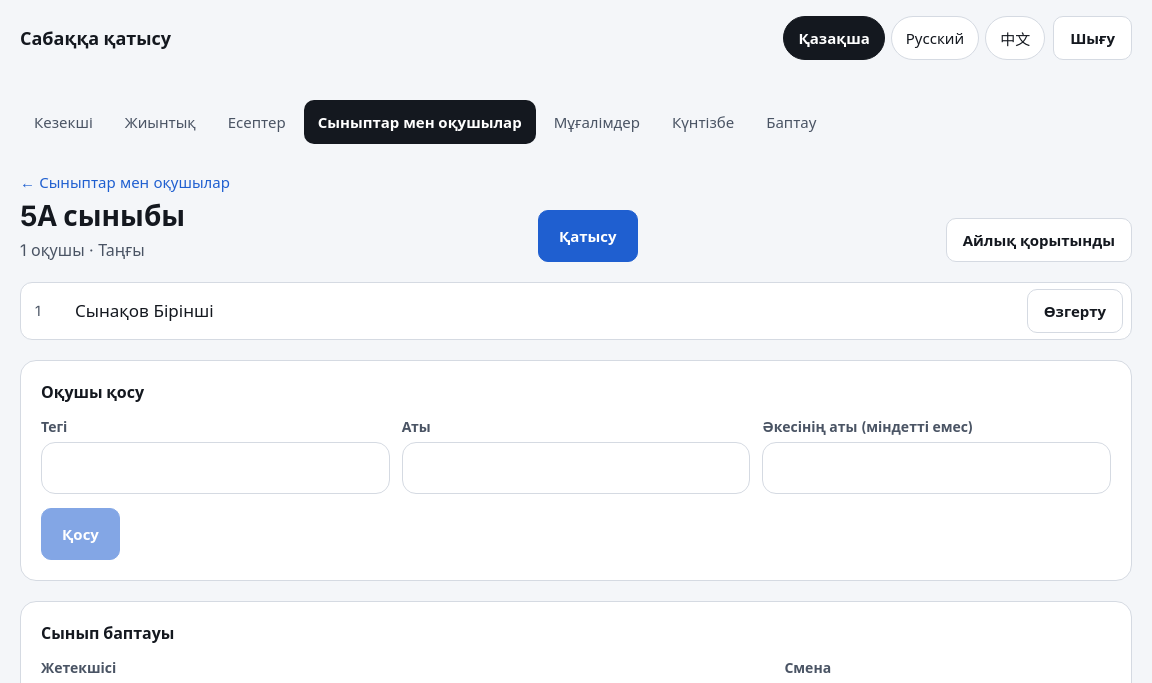
Test case: сынып беті › сервер қатесі таңдалған тілде көрсетіледі, толтырылған өрістер сақталады
Type "Сынақов" into the field labelled "Тегі" at (215, 468), box [41,442,390,494]
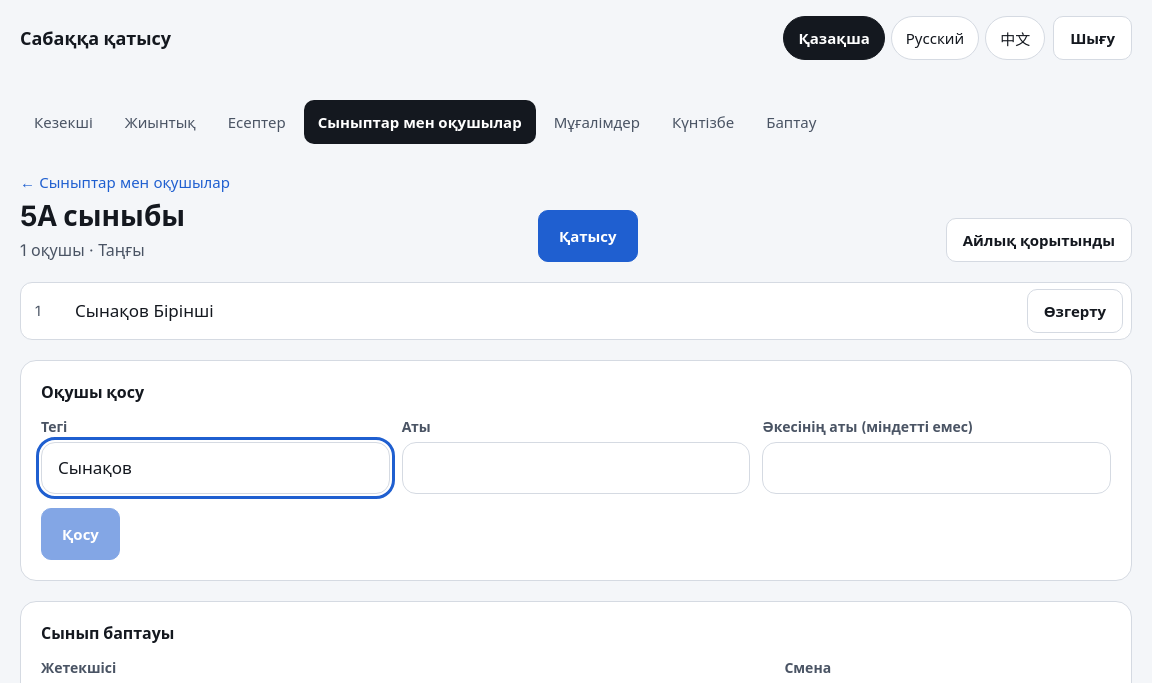
Type "Бірінші" into the field labelled "Аты" at (576, 468), box [402,442,750,494]
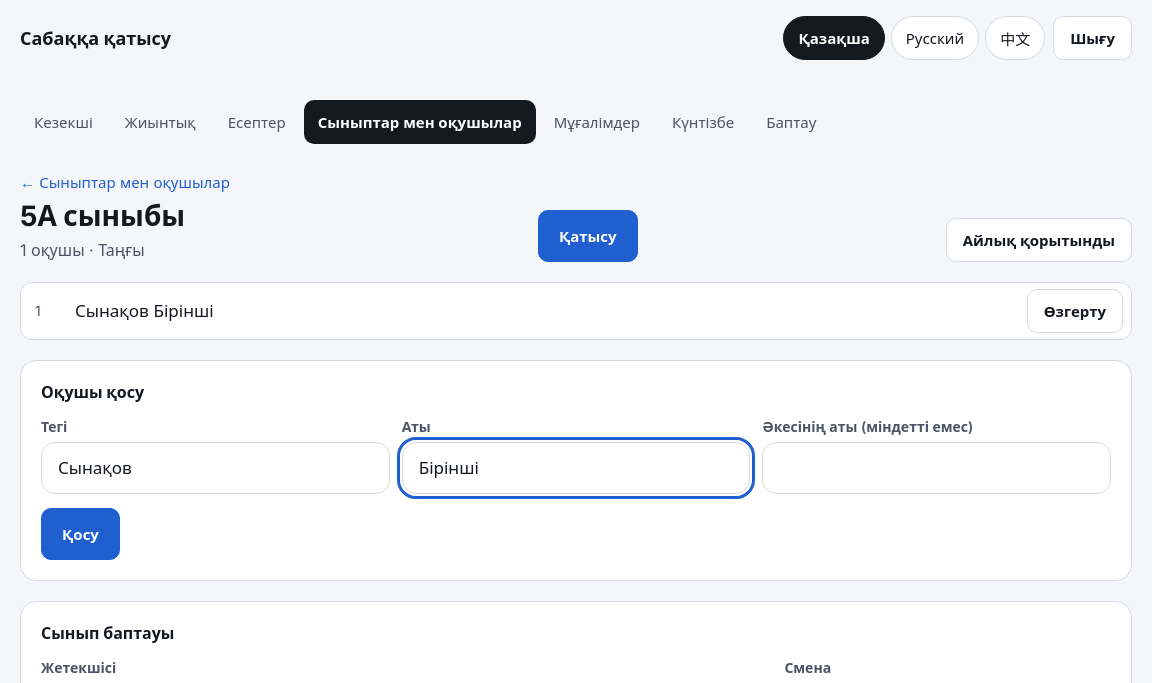
Click the button "Қосу" at (80, 534), box [41,508,120,560]
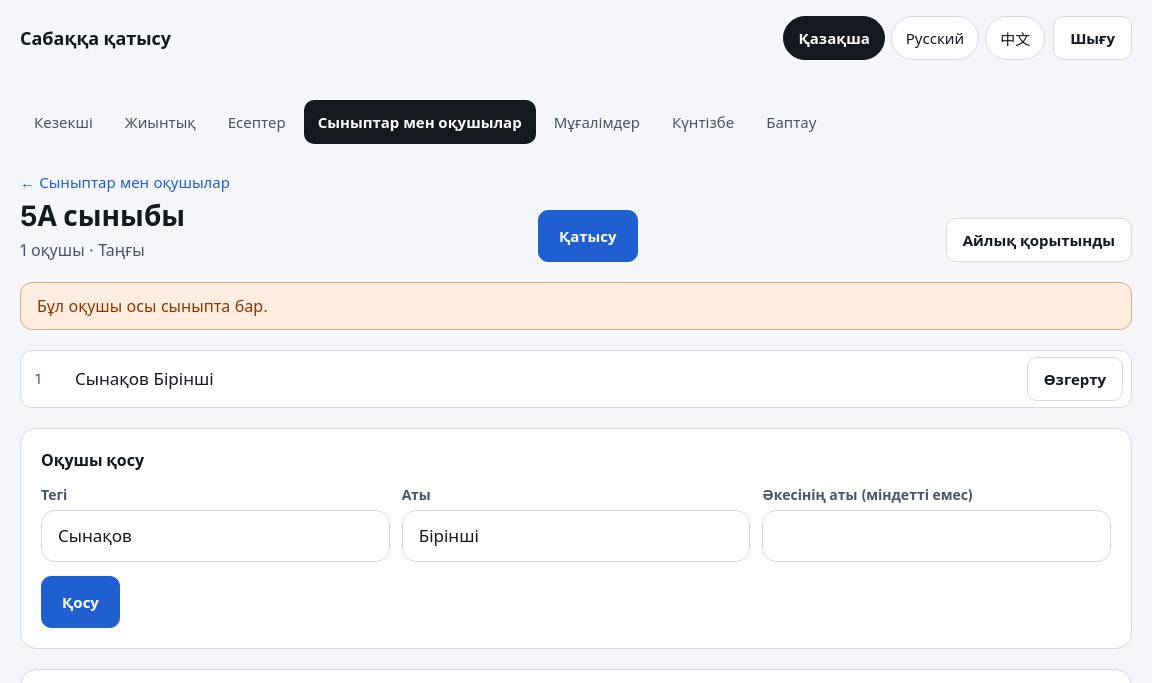
Now the message reads "Бұл оқушы осы сыныпта бар.", box [37,296,268,316]
